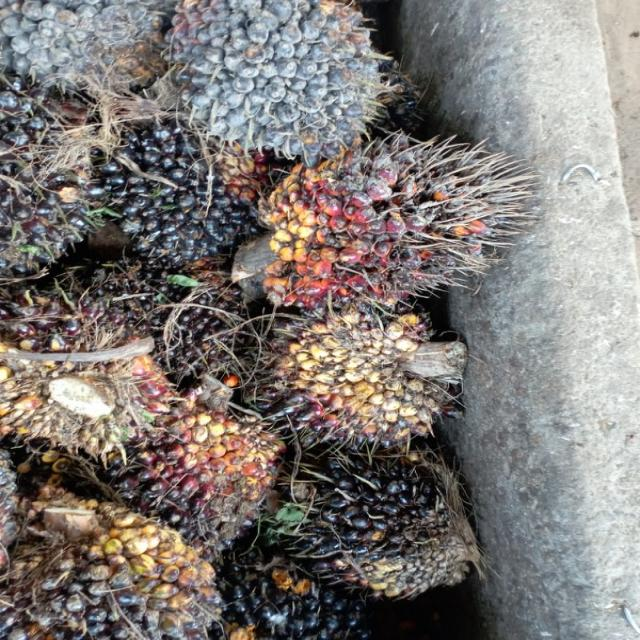fraksi 00: (66, 82, 263, 307)
fraksi 1: (247, 89, 589, 348), (218, 273, 497, 466)
